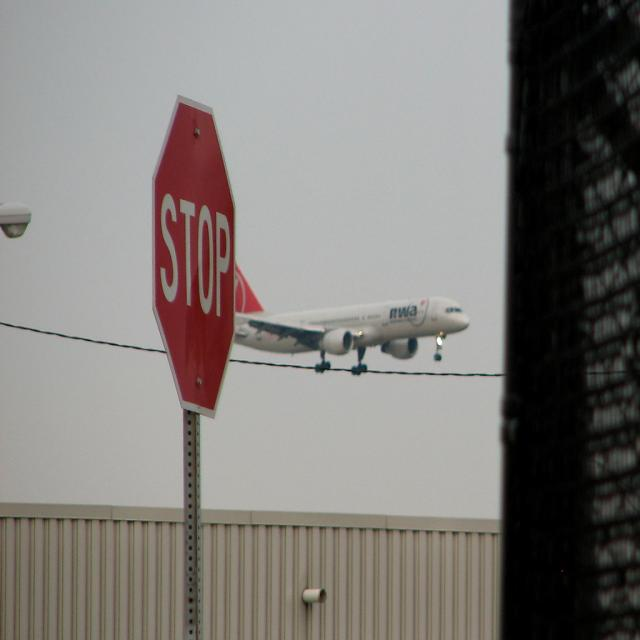Stop-sign: (150, 95, 236, 421)
